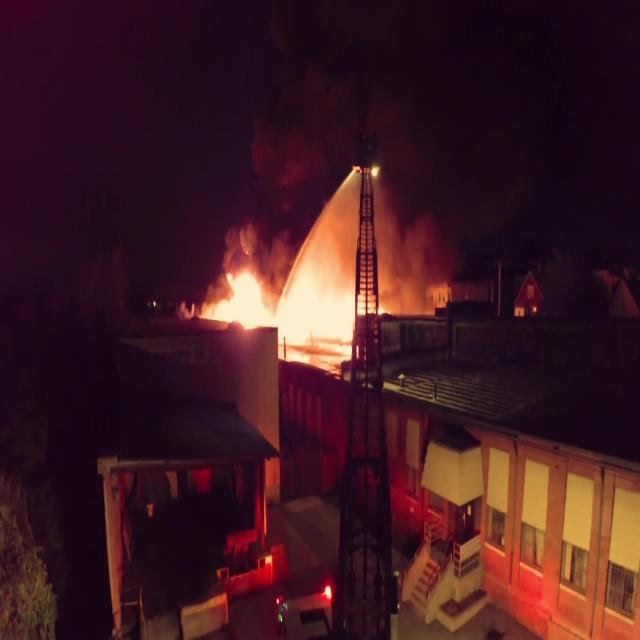Fire: (198, 256, 388, 356)
Smoke: (208, 0, 588, 272)
